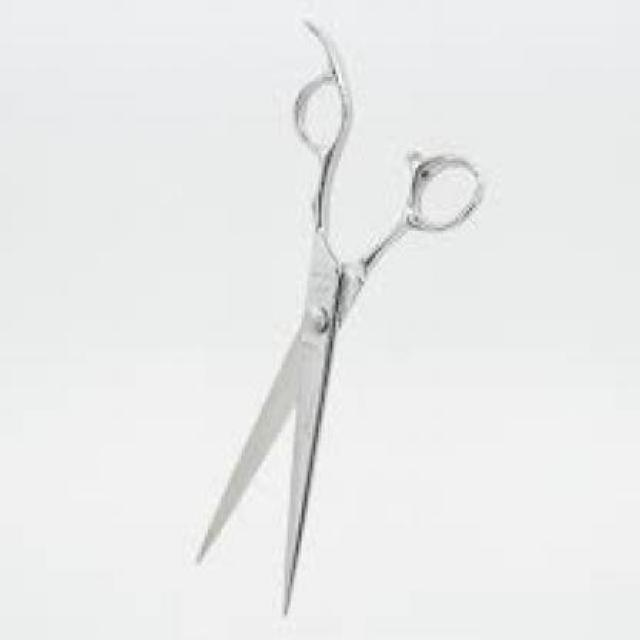scissors: (196, 17, 481, 617)
